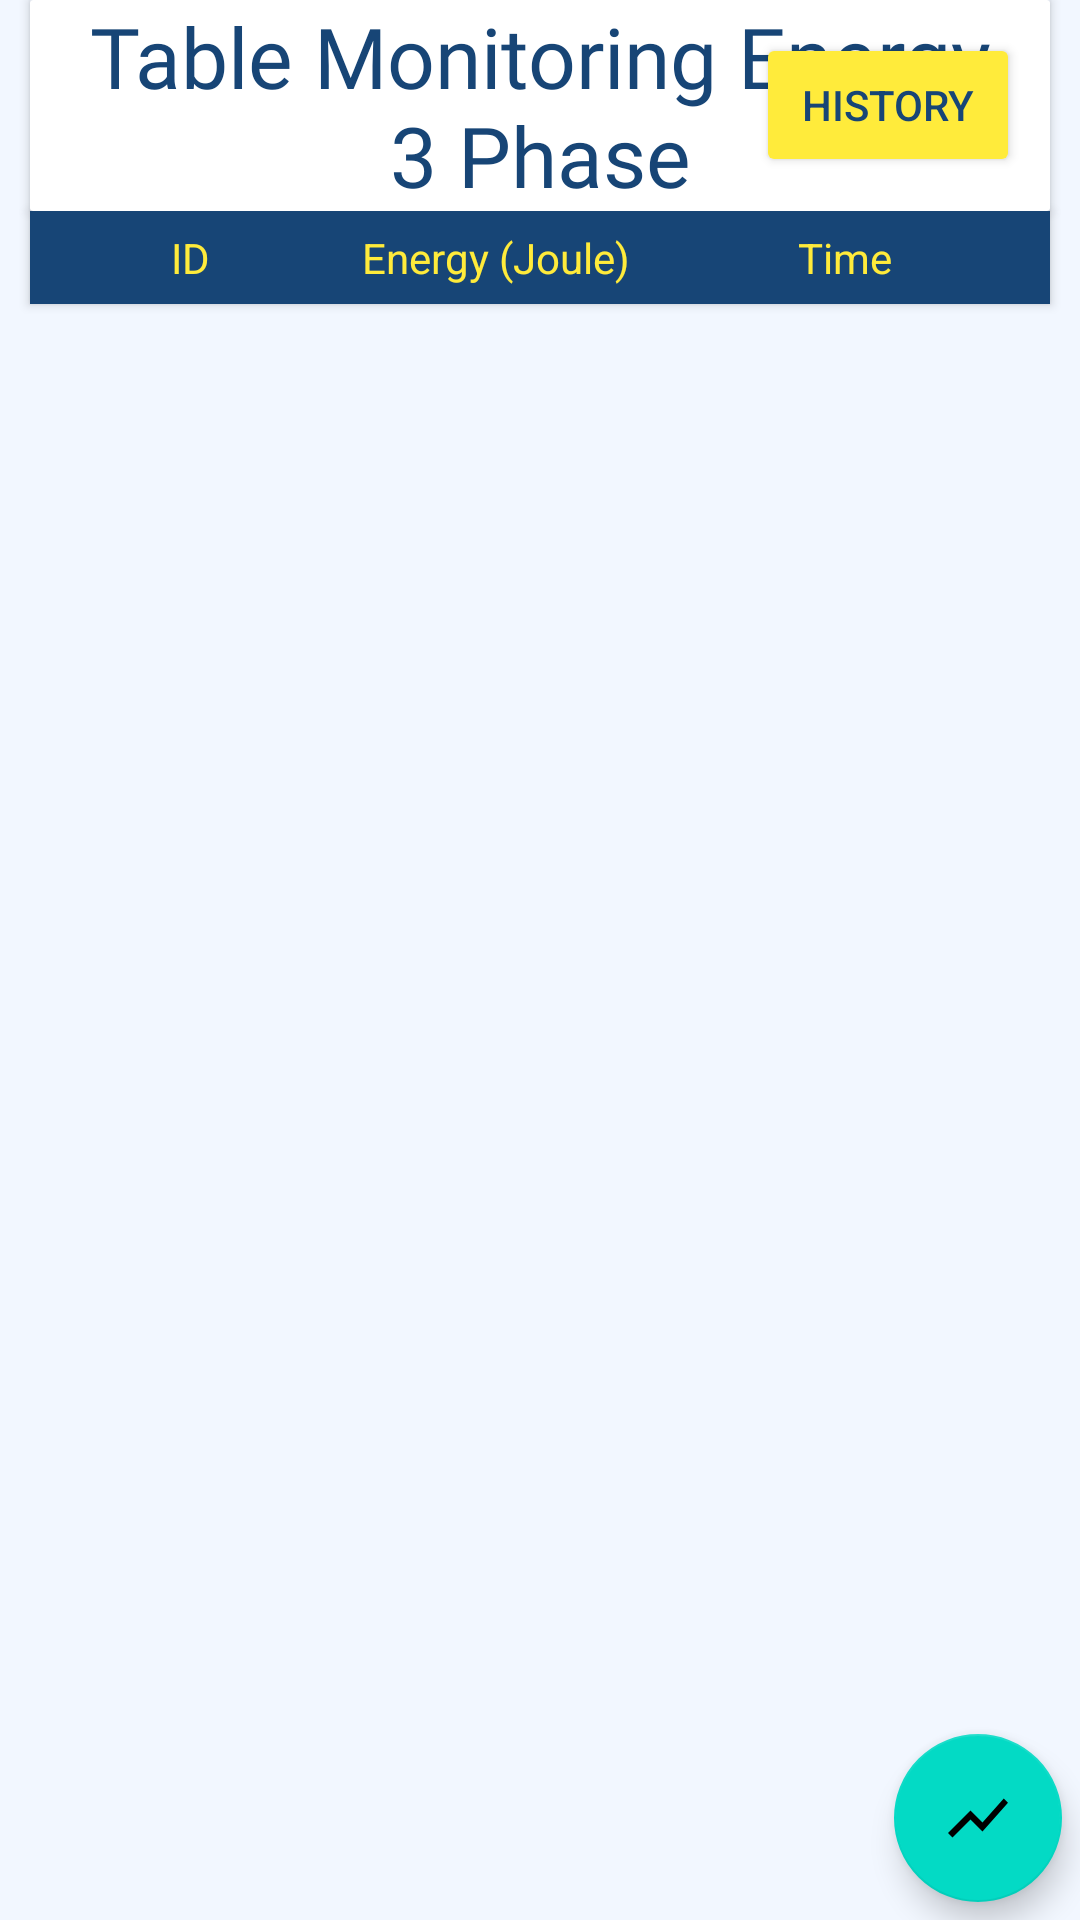

Named icons in this screenshot (1080 x 1920) and their bounding boxes, [left=x1, top=y1, right=x2, bottom=y2]:
show chart: [left=894, top=1734, right=1062, bottom=1902]
